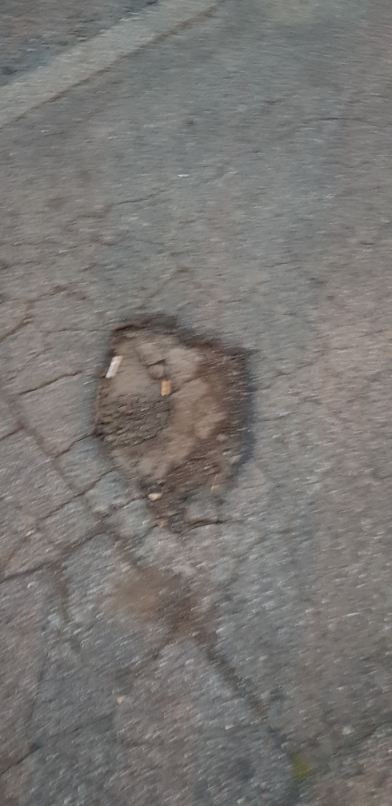pothole: (85, 311, 261, 540)
